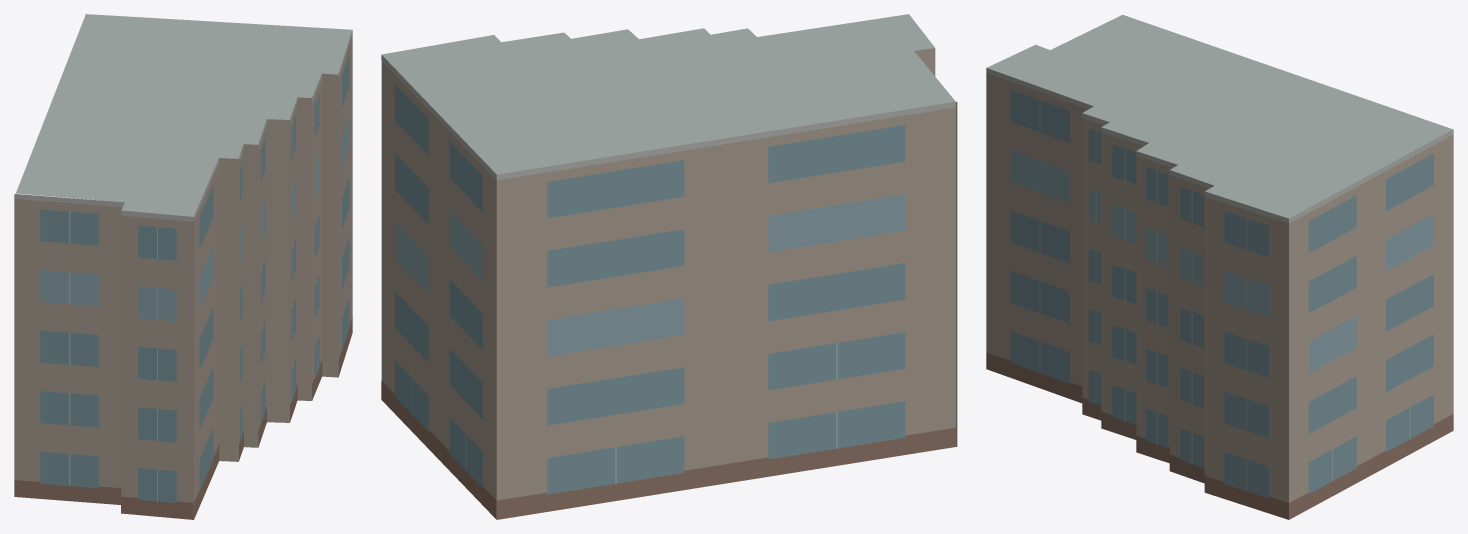
The model's file is survey-upis-32704561.glb.
3 renders of one model, left to right at view 1: azimuth 30°, elevation 25°; view 2: azimuth 150°, elevation 25°; view 3: azimuth 270°, elevation 25°, orthographic. The views are drawn at different scales.
Visible parts, largest first — view 1: survey-upis-32704561.tmp; view 2: survey-upis-32704561.tmp; view 3: survey-upis-32704561.tmp.
Boxes of the visible parts, x1,y1,x2,y2 form: survey-upis-32704561.tmp: (14, 14, 352, 519); survey-upis-32704561.tmp: (381, 14, 957, 519); survey-upis-32704561.tmp: (986, 14, 1453, 519).
Size of the model in its own units: 21.13 by 14.5 by 20.38.
